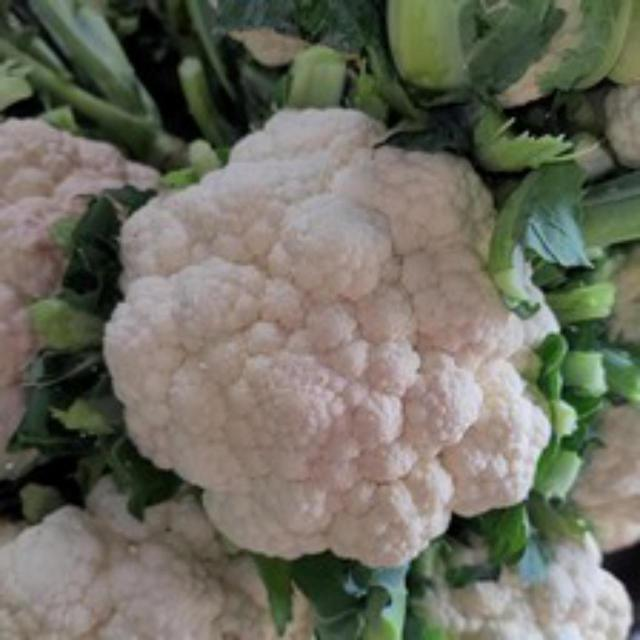cauliflower: (96, 87, 568, 578)
